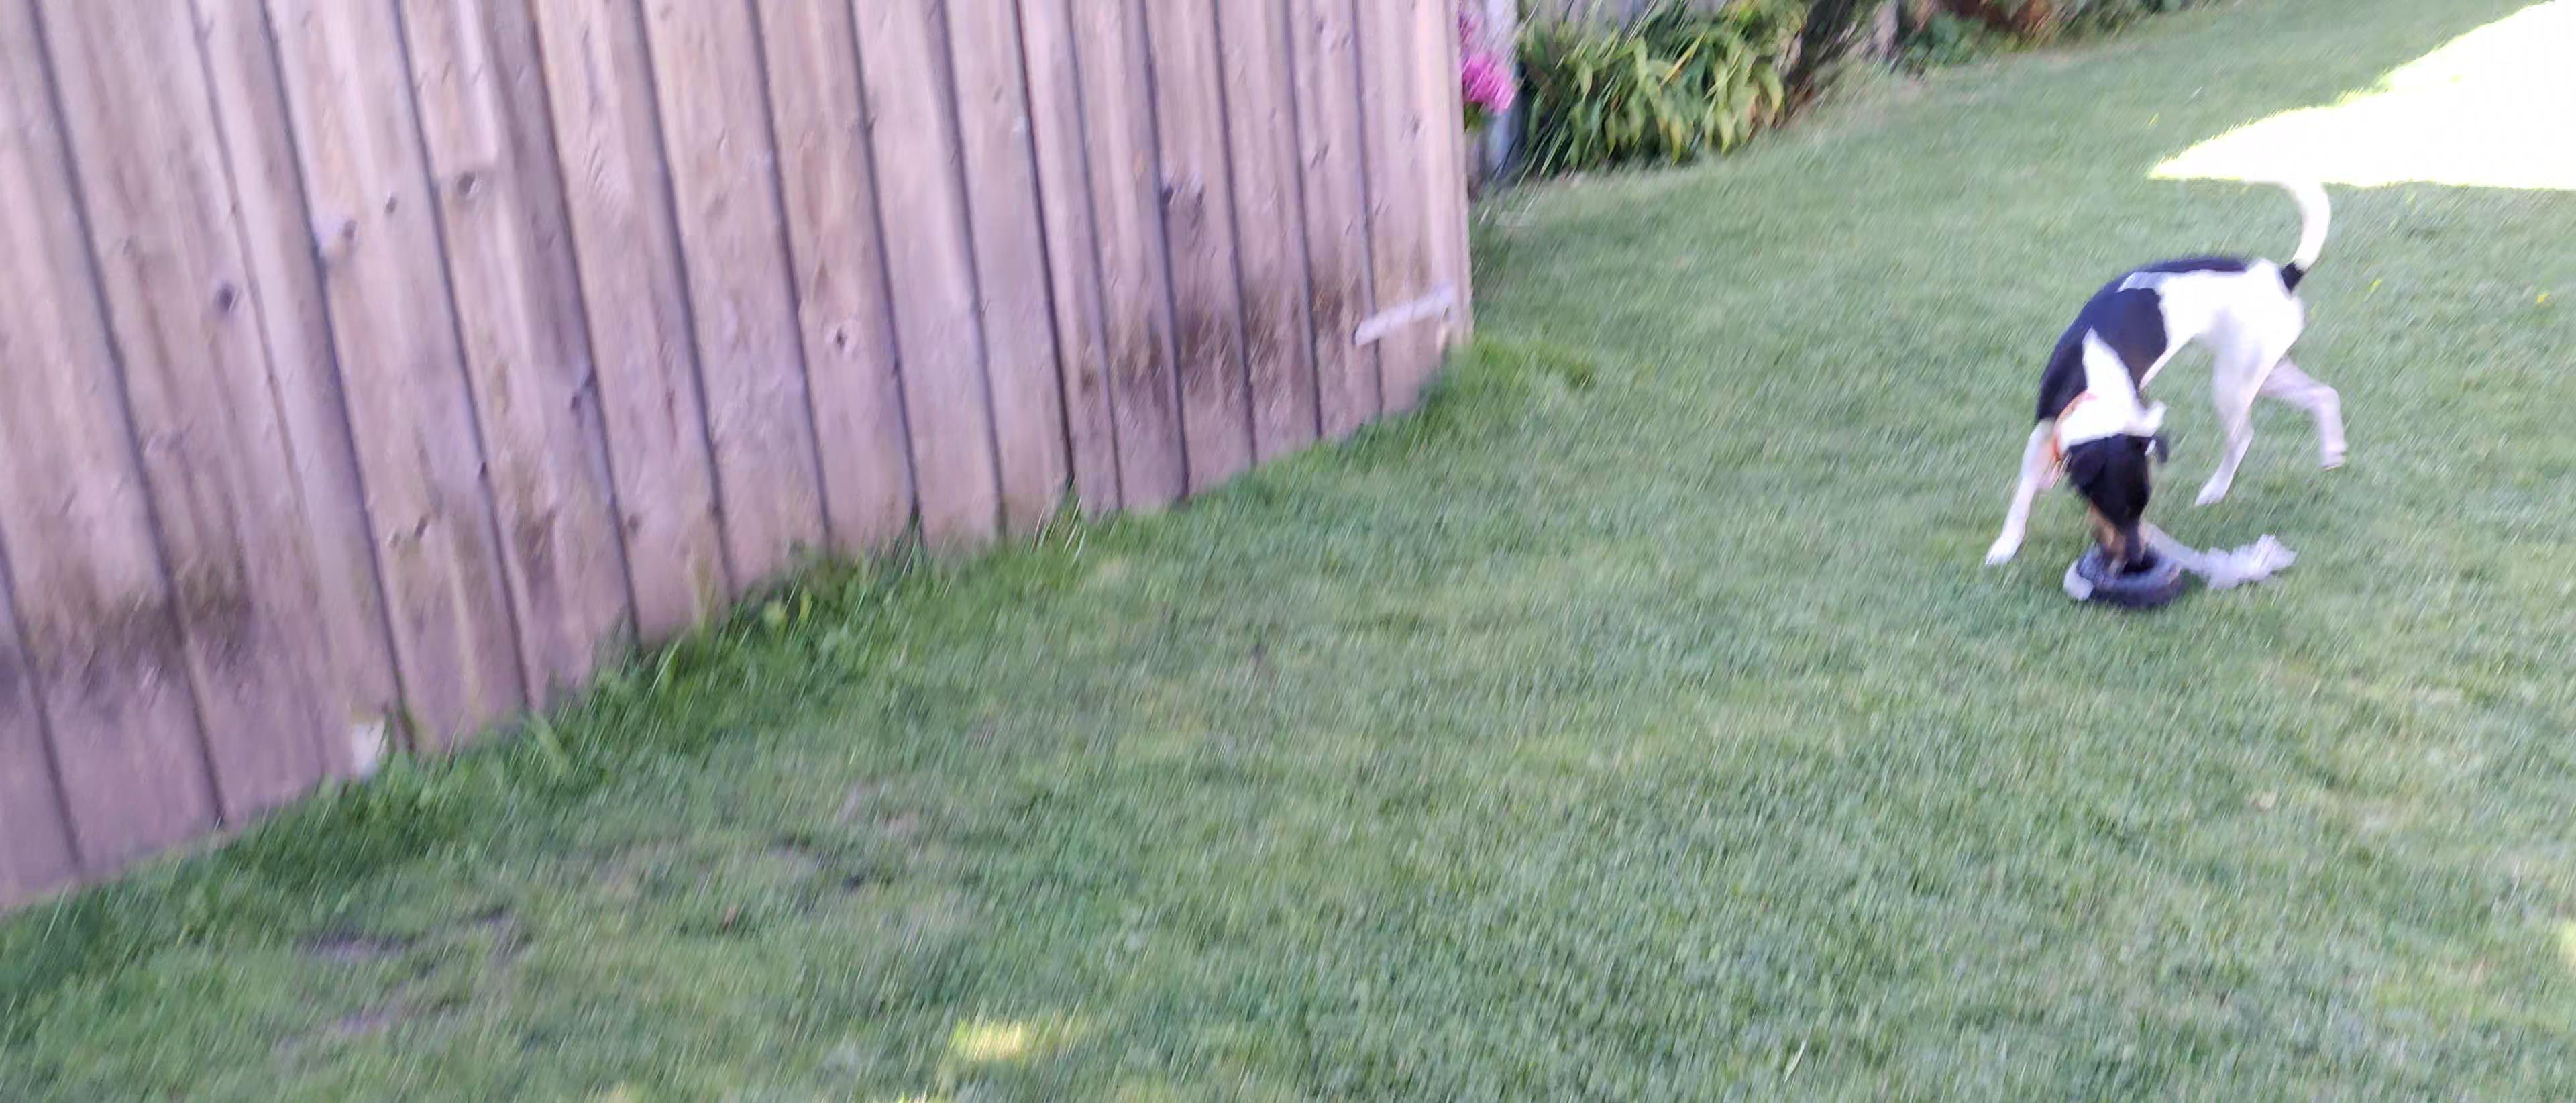Dog: (1963, 148, 2371, 584)
